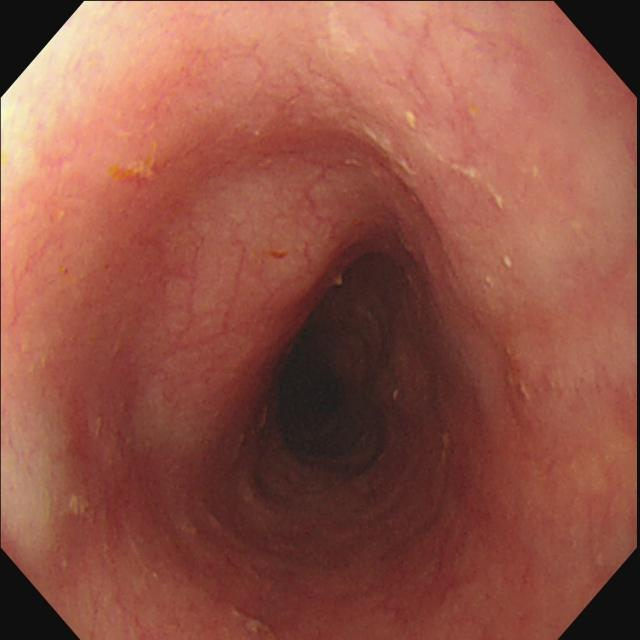E: (266, 325, 372, 466)
J: (365, 126, 416, 178), (110, 138, 160, 185), (230, 609, 273, 640), (69, 495, 91, 522), (334, 276, 346, 288)
